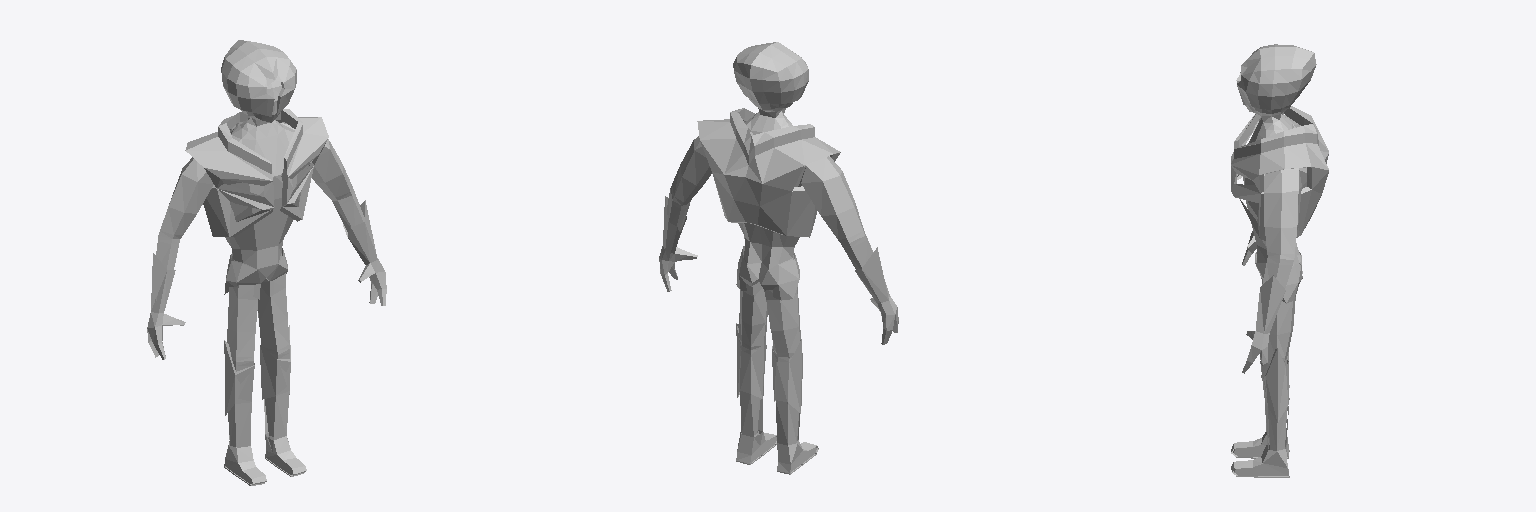
File: hilaa.obj
The picture shows the model from 3 angles: view 1: azimuth 30°, elevation 25°; view 2: azimuth 150°, elevation 25°; view 3: azimuth 270°, elevation 25°; orthographic projection.
Visible parts, largest first — view 1: Cube.001_Cube.006; view 2: Cube.001_Cube.006; view 3: Cube.001_Cube.006.
Boxes of the visible parts, x1,y1,x2,y2 form: Cube.001_Cube.006: [147, 40, 386, 485]; Cube.001_Cube.006: [659, 42, 898, 474]; Cube.001_Cube.006: [1231, 44, 1328, 477].
Bounding box in the file's own units: 4.41 × 7.48 × 1.6.